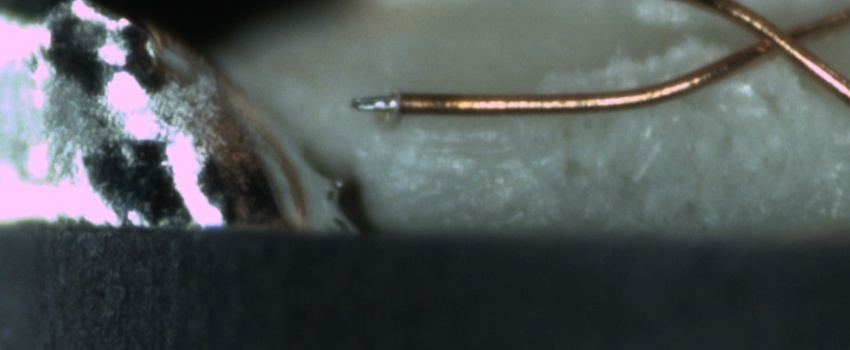CL: (733, 7, 825, 68)
DL: (401, 124, 540, 178)
